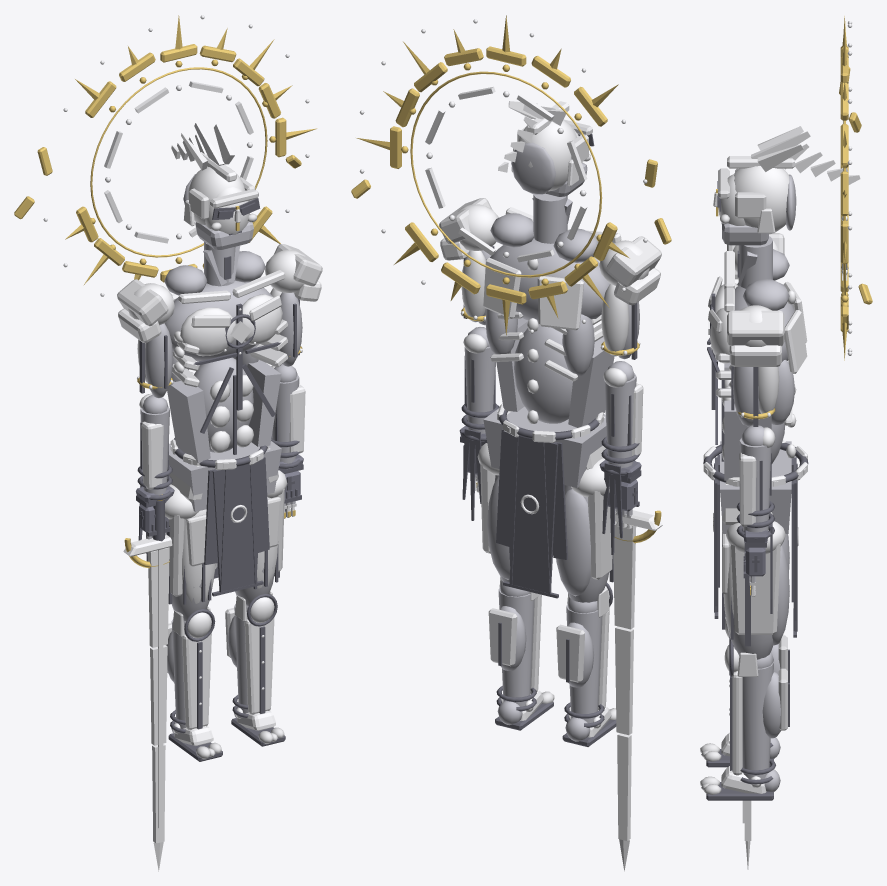
Rendered from absolute.glb.
3 renders of one model, left to right at view 1: azimuth 30°, elevation 25°; view 2: azimuth 150°, elevation 25°; view 3: azimuth 270°, elevation 25°, orthographic. The views are drawn at different scales.
Visible parts, largest first — view 1: seam.017, skin.017, skin.012, plate.003, plate.008, skin.020, skin.014, skin.013, plate.150, plate.029, plate.147, skin.036 (+28 smaller); view 2: seam.023, skin.013, skin.020, skin.012, skin.007, skin.017, plate.147, skin.009, skin.003, plate.148, skin.028, skin.038 (+29 smaller); view 3: plate*0.001, skin.003, plate.039, skin.012, plate*0.025, skin.014, skin.028, plate.049, skin.021, skin.015, plate.046, plate.003 (+38 smaller).
Boxes of the visible parts, x1=… form: seam.017: x1=212, y1=459, x2=263, y2=591; skin.017: x1=167, y1=381, x2=210, y2=462; skin.012: x1=169, y1=441, x2=281, y2=511; plate.003: x1=244, y1=618, x2=274, y2=714; plate.008: x1=182, y1=633, x2=211, y2=729; skin.020: x1=165, y1=280, x2=272, y2=361; skin.014: x1=247, y1=360, x2=281, y2=446; skin.013: x1=194, y1=357, x2=253, y2=452; plate.150: x1=158, y1=549, x2=163, y2=828; plate.029: x1=180, y1=307, x2=235, y2=356; plate.147: x1=148, y1=547, x2=169, y2=647; skin.036: x1=145, y1=323, x2=173, y2=398; seam.023: x1=503, y1=431, x2=558, y2=592; skin.013: x1=514, y1=324, x2=572, y2=423; skin.020: x1=490, y1=238, x2=609, y2=323; skin.012: x1=483, y1=406, x2=606, y2=487; skin.007: x1=556, y1=489, x2=590, y2=596; skin.017: x1=568, y1=337, x2=614, y2=427; plate.147: x1=613, y1=522, x2=636, y2=629; skin.009: x1=566, y1=604, x2=602, y2=723; skin.003: x1=498, y1=587, x2=534, y2=706; plate.148: x1=615, y1=626, x2=633, y2=735; skin.028: x1=464, y1=346, x2=495, y2=434; skin.038: x1=604, y1=373, x2=636, y2=468; plate*0.001: x1=731, y1=544, x2=780, y2=634; skin.003: x1=742, y1=661, x2=773, y2=779; plate.039: x1=734, y1=166, x2=796, y2=234; skin.012: x1=720, y1=441, x2=791, y2=533; plate*0.025: x1=727, y1=310, x2=784, y2=346; skin.014: x1=724, y1=400, x2=771, y2=480; skin.028: x1=739, y1=438, x2=771, y2=532; plate.049: x1=739, y1=452, x2=756, y2=526; skin.021: x1=738, y1=236, x2=772, y2=288; skin.015: x1=743, y1=279, x2=789, y2=310; plate.046: x1=729, y1=345, x2=781, y2=366; plate.003: x1=732, y1=671, x2=742, y2=775.
Size of the model in its own units: 1.43 by 3.71 by 0.6605.
